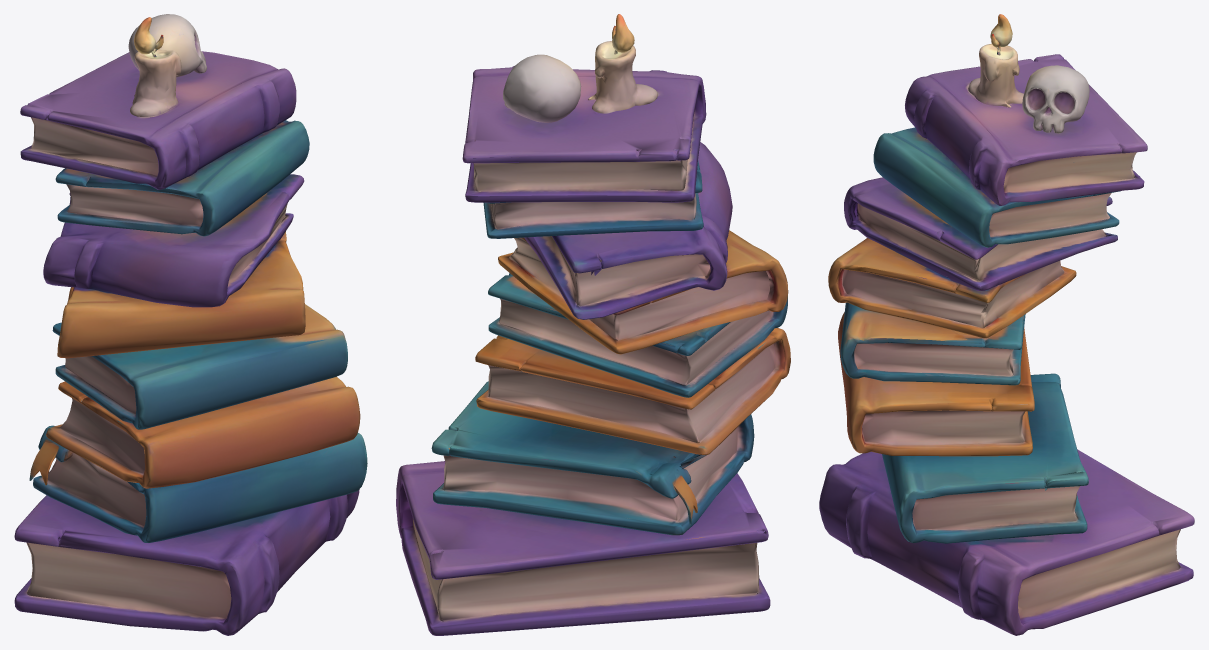
The model's file is S4_BookTower_LOD1.fbx.
3 views of the same model, side by side, from view 1: azimuth 30°, elevation 25°; view 2: azimuth 150°, elevation 25°; view 3: azimuth 270°, elevation 25° (orthographic). The views are drawn at different scales.
Parts seen in each view (by area): view 1: S4_BookTower_LOD1; view 2: S4_BookTower_LOD1; view 3: S4_BookTower_LOD1.
Part boxes in pixels (box(x1,y1,x2,y2)): S4_BookTower_LOD1: box(14, 14, 367, 635); S4_BookTower_LOD1: box(396, 14, 790, 635); S4_BookTower_LOD1: box(819, 14, 1194, 635).
Bounding box in the file's own units: 1.74 × 2.6 × 1.68.
Materials: 1 (1 with a texture image).
